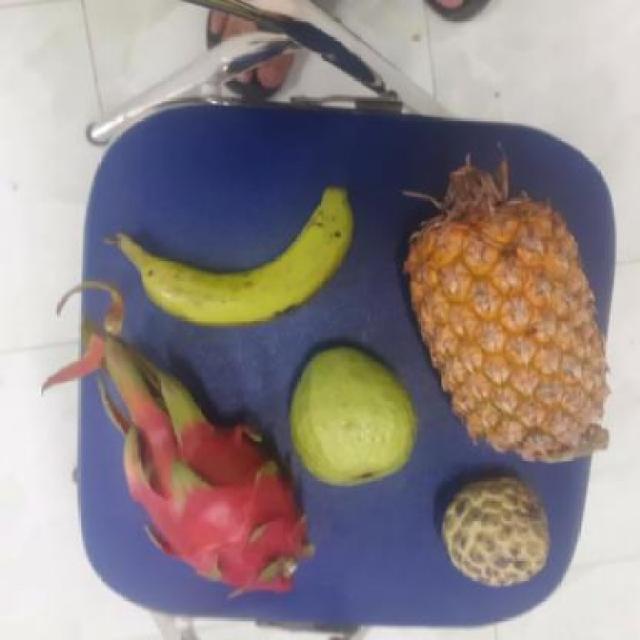banana: (114, 195, 348, 327)
dragon fruit: (128, 412, 306, 594)
guava: (280, 346, 418, 486)
pineapple: (405, 195, 604, 463)
sugar apple: (438, 478, 550, 585)
